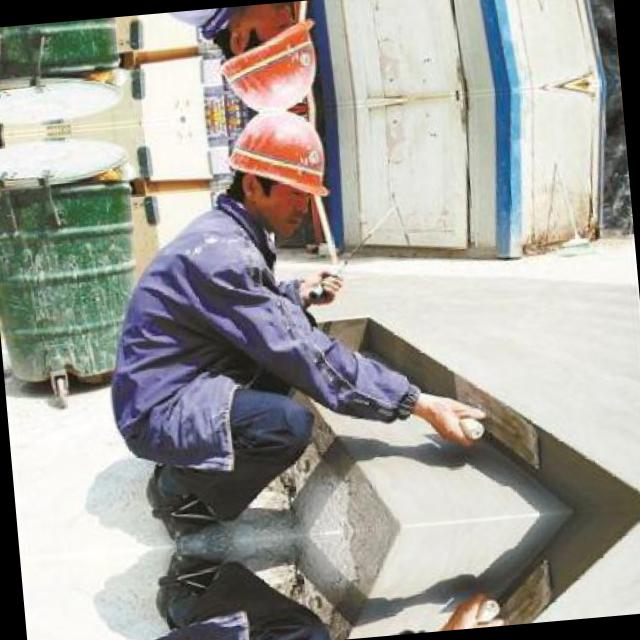helmet: (218, 106, 338, 238), (208, 0, 329, 114)
